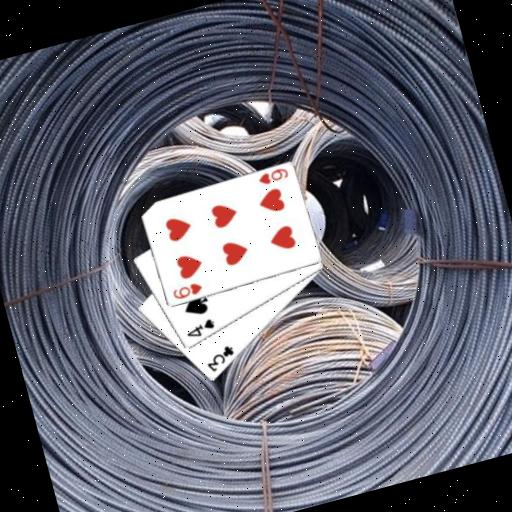3C: (200, 341, 239, 376)
4S: (181, 314, 218, 341)
6H: (254, 163, 291, 188), (167, 279, 204, 303)
